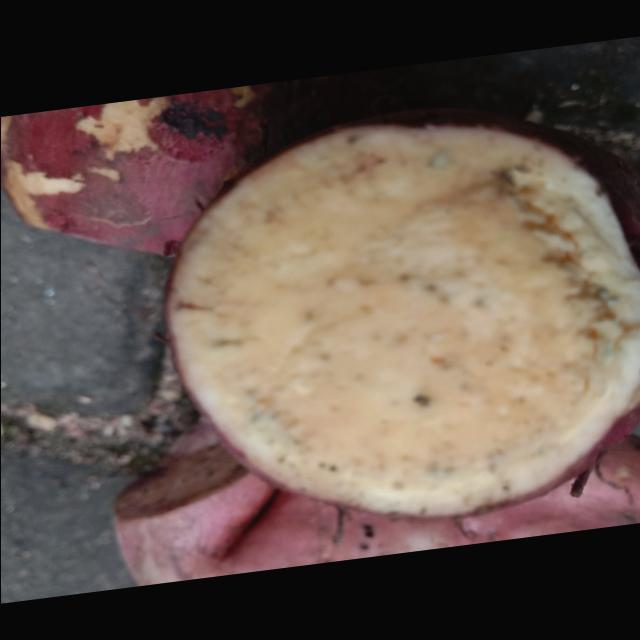Healthy Sweet Potato: (165, 110, 638, 516)
